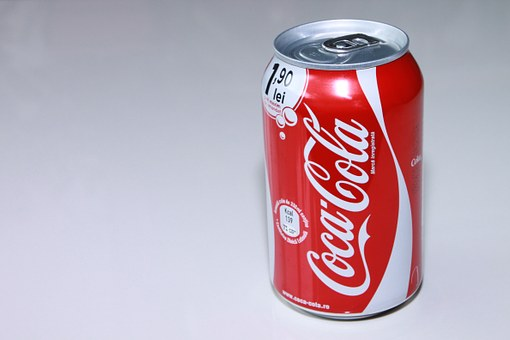can: (252, 17, 436, 323)
